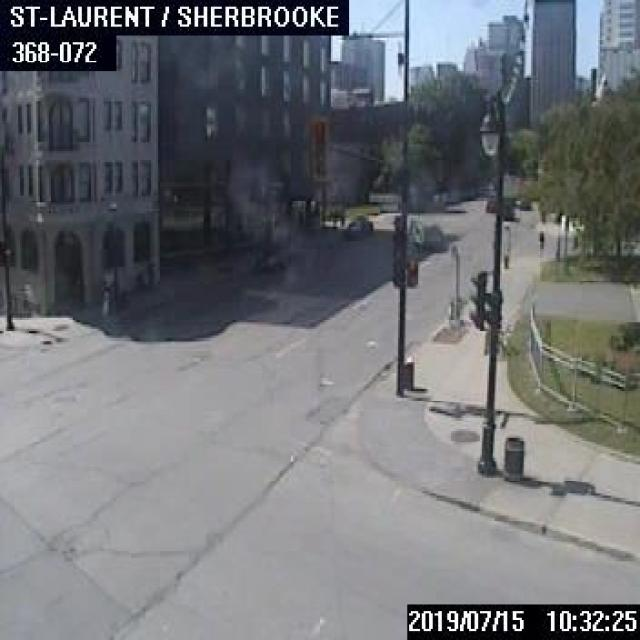pedestrian: (537, 228, 543, 250)
vehicle: (254, 246, 288, 268), (345, 213, 371, 235), (500, 201, 513, 217), (516, 196, 530, 210), (484, 195, 493, 211)
